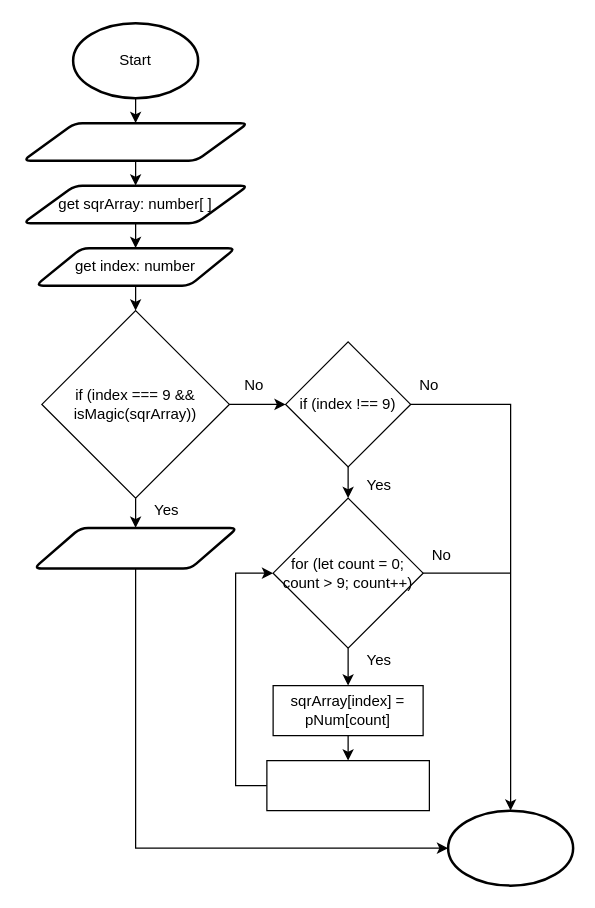
Image size: 595x908. Some labels were removed from this diagram. The centre of each missing label's shape, as x and y in pixels:
generateSquare(pNum sqrArray, index + 1): pixel 347 785
get pNum: number[ ]: pixel 135 141
printSquare(sqrArray): pixel 135 547
Stop: pixel 510 847
